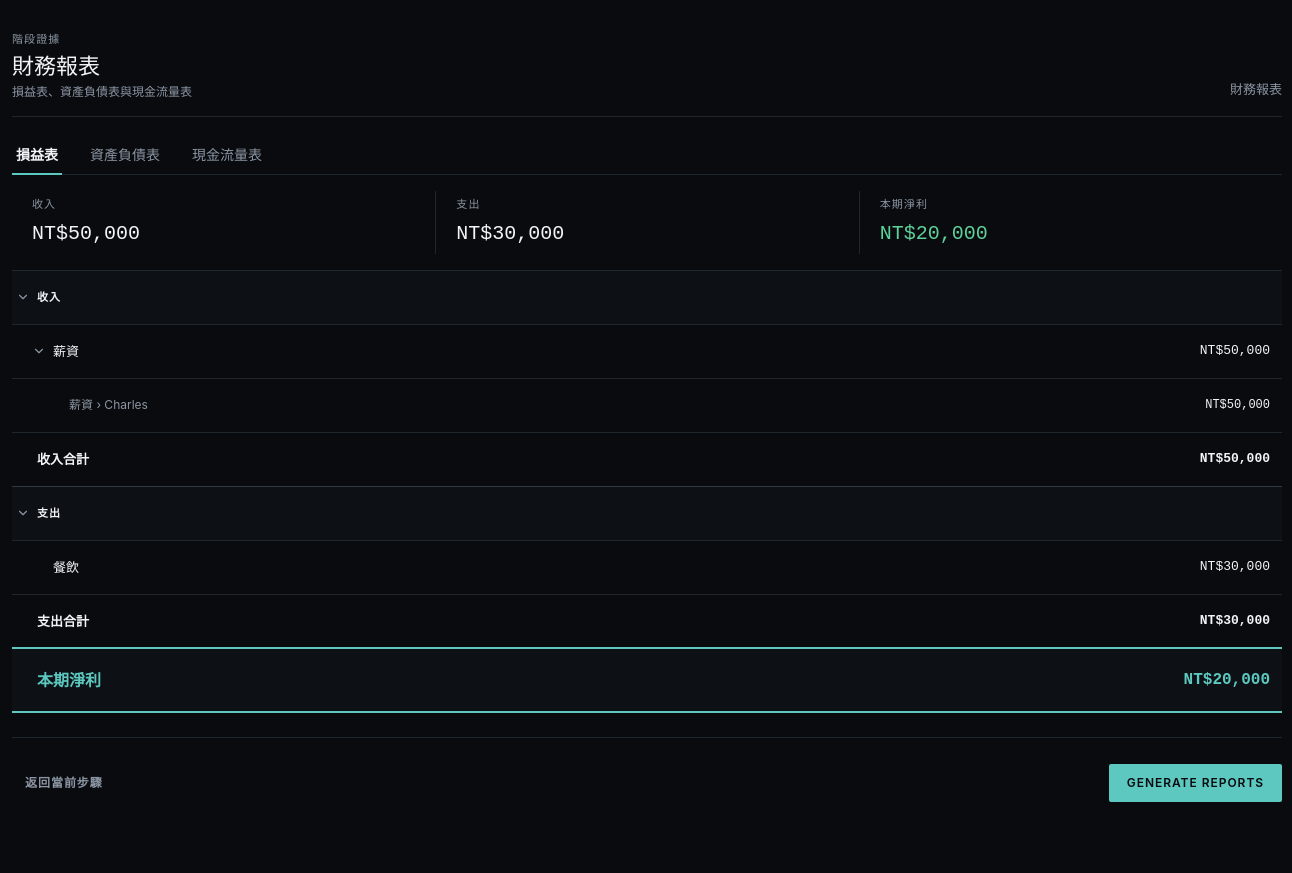
CloseFinancialReports › switches statement tabs on desktop
Press the mouse on the tab "資產負債表" at (125, 158), box [86,141,164,175]
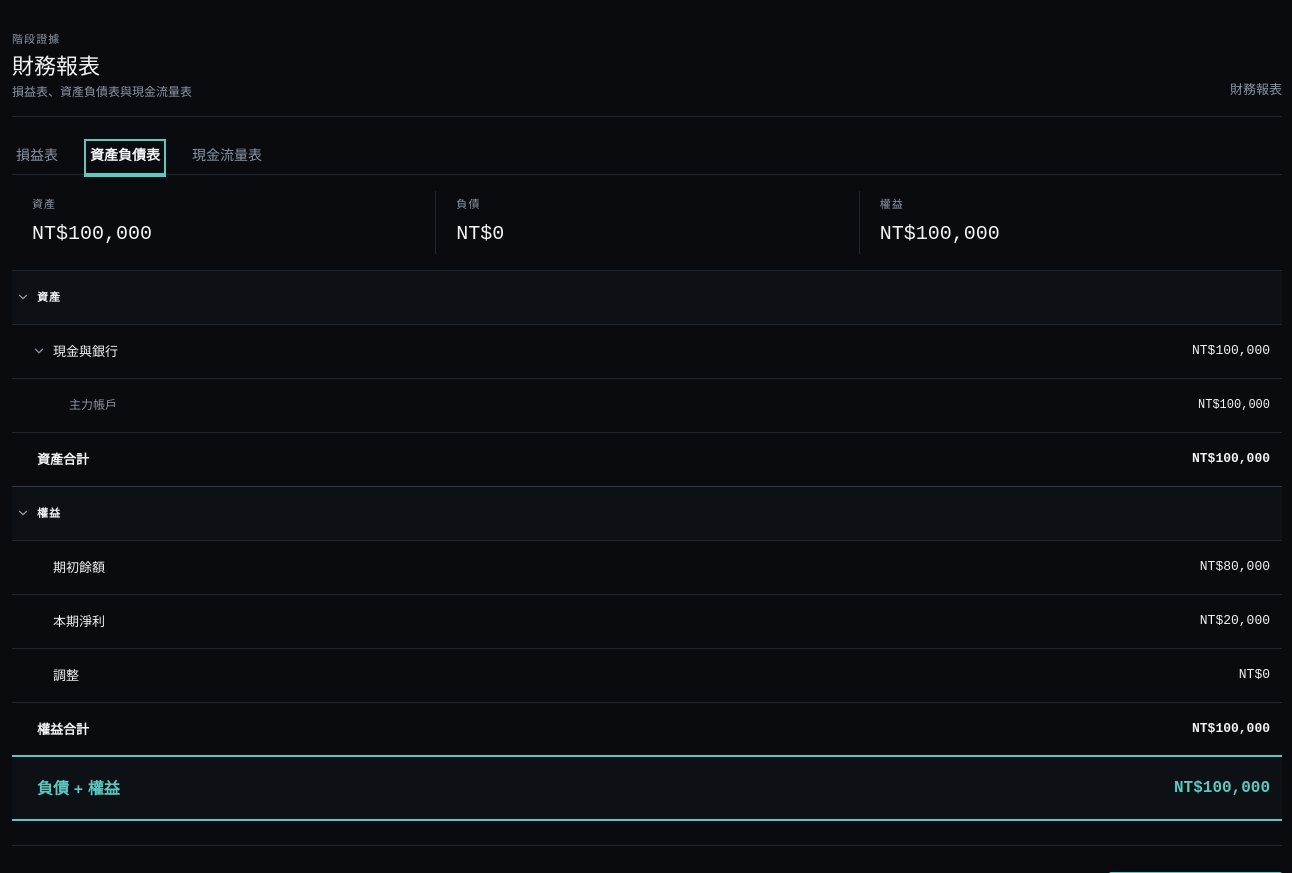
Now the element with test id "close-balance-sheet" is shown
Press the mouse on the tab "現金流量表" at (227, 158), box [188,141,266,175]
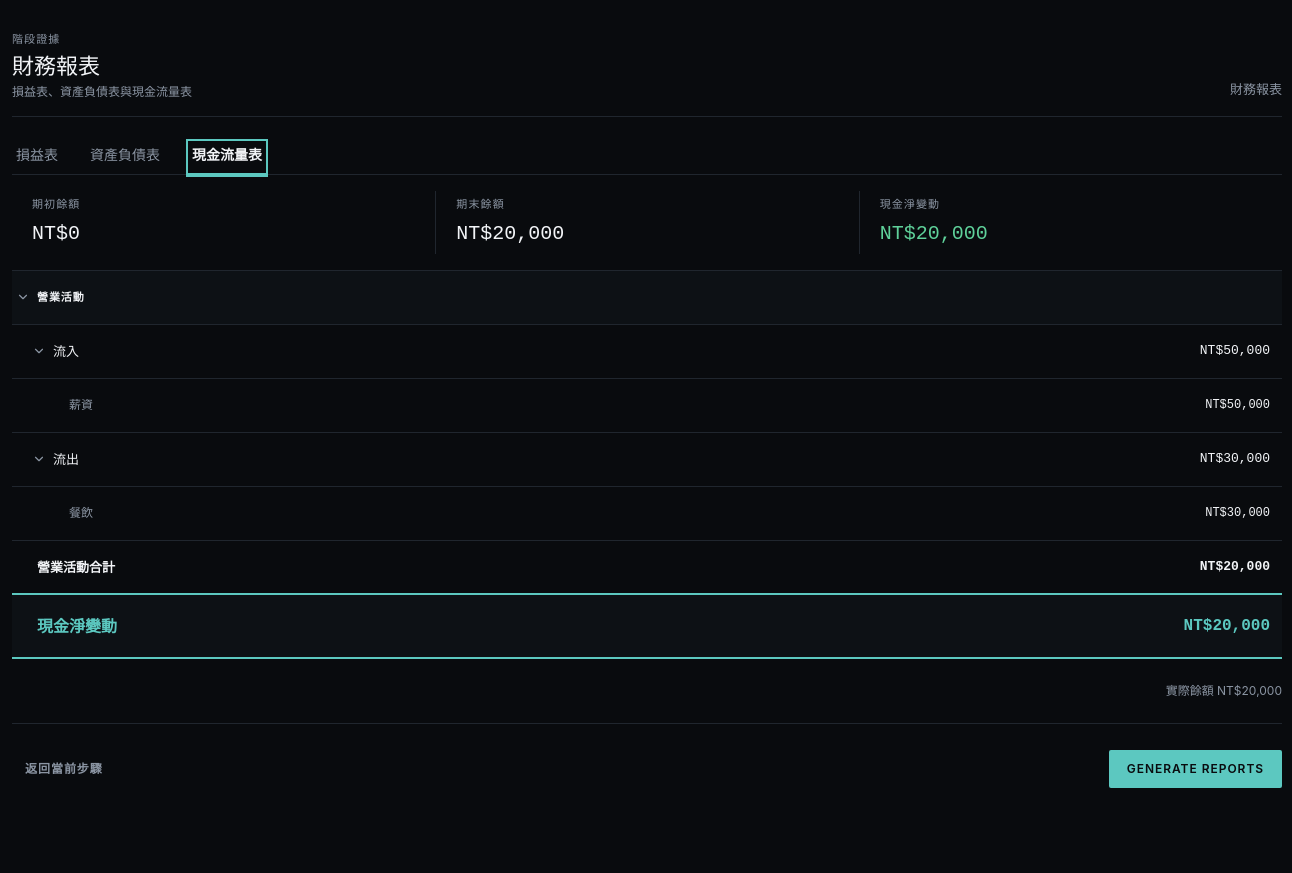
Now the element with test id "close-cash-flow" is shown, box [12,191,1282,699]
